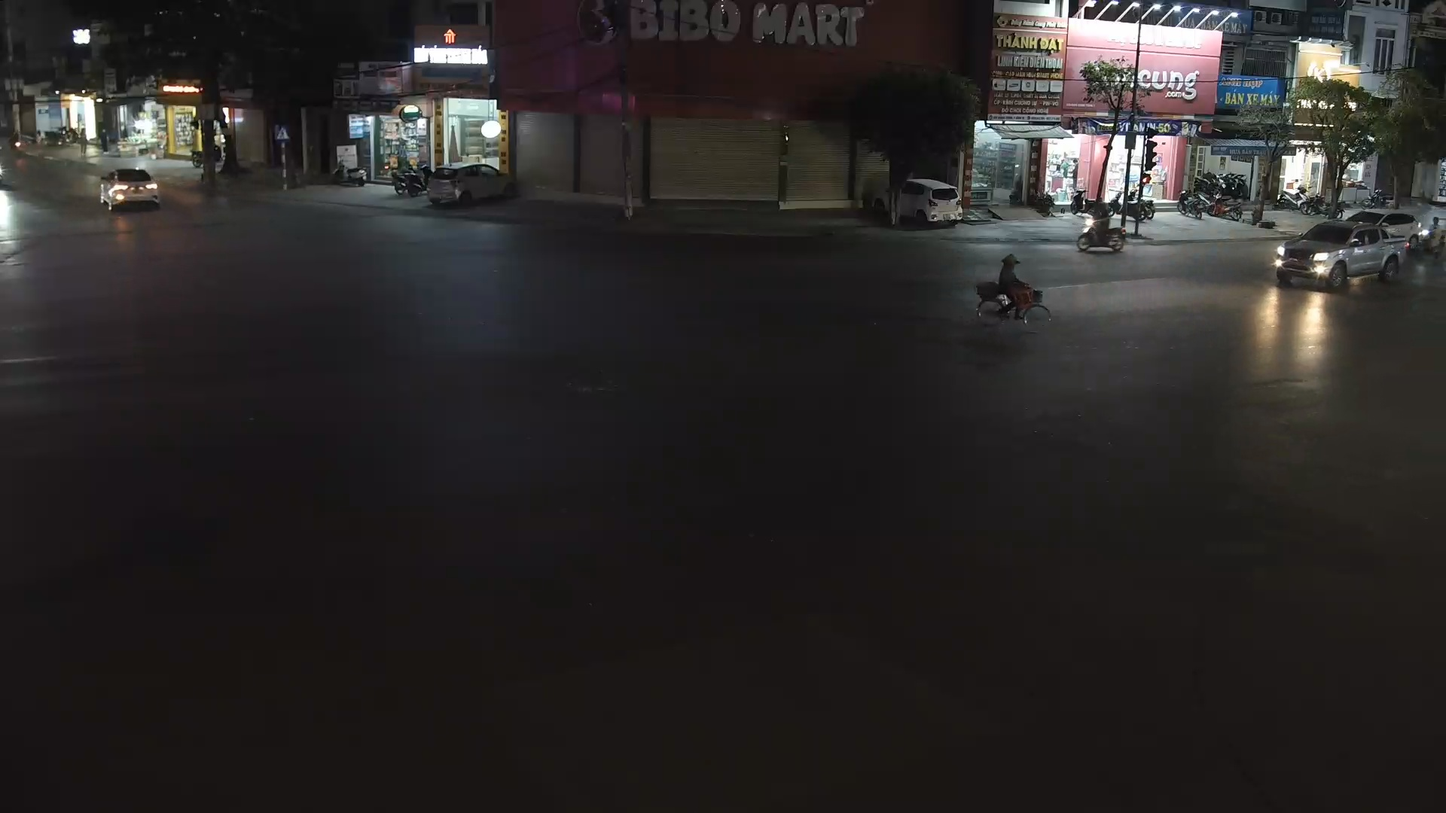car: (1274, 210, 1406, 293), (100, 165, 164, 213)
motorbike: (973, 252, 1052, 330), (1076, 202, 1128, 254)
